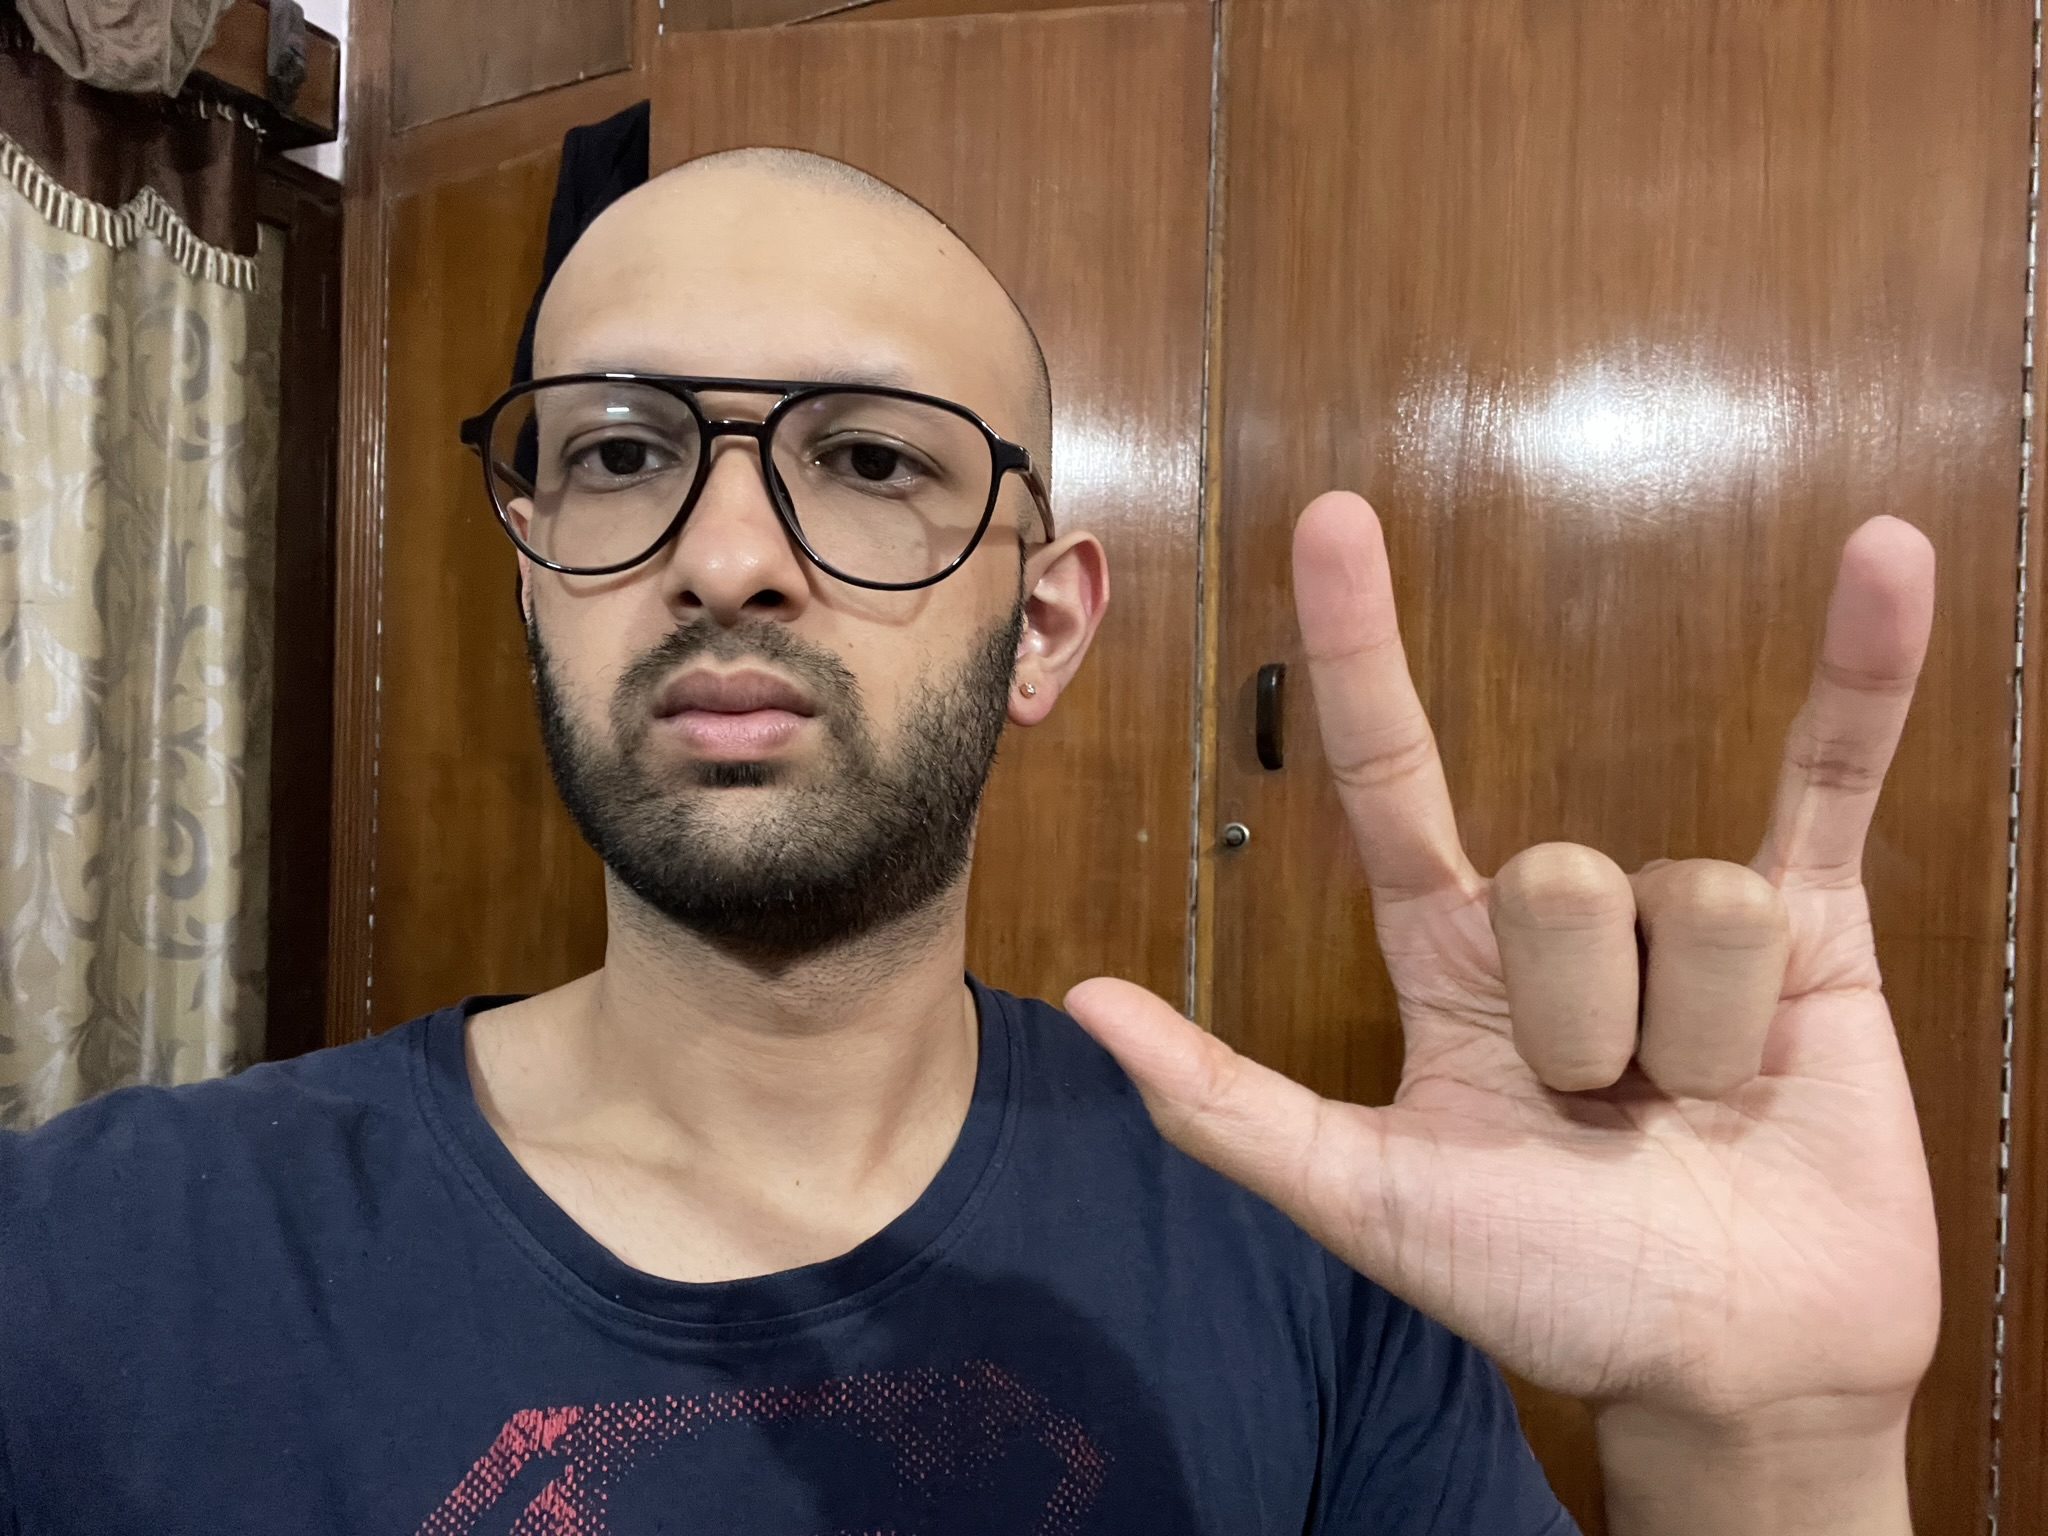I Love You: (1058, 484, 1953, 1415)
